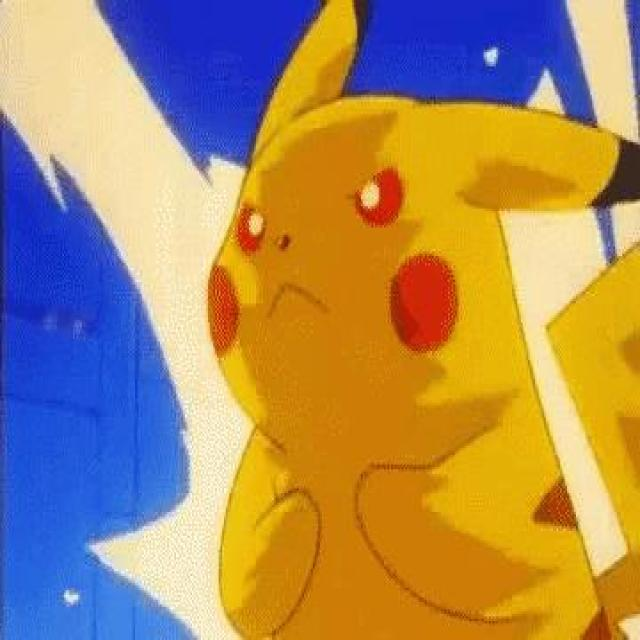pikachu: (208, 0, 640, 638)
